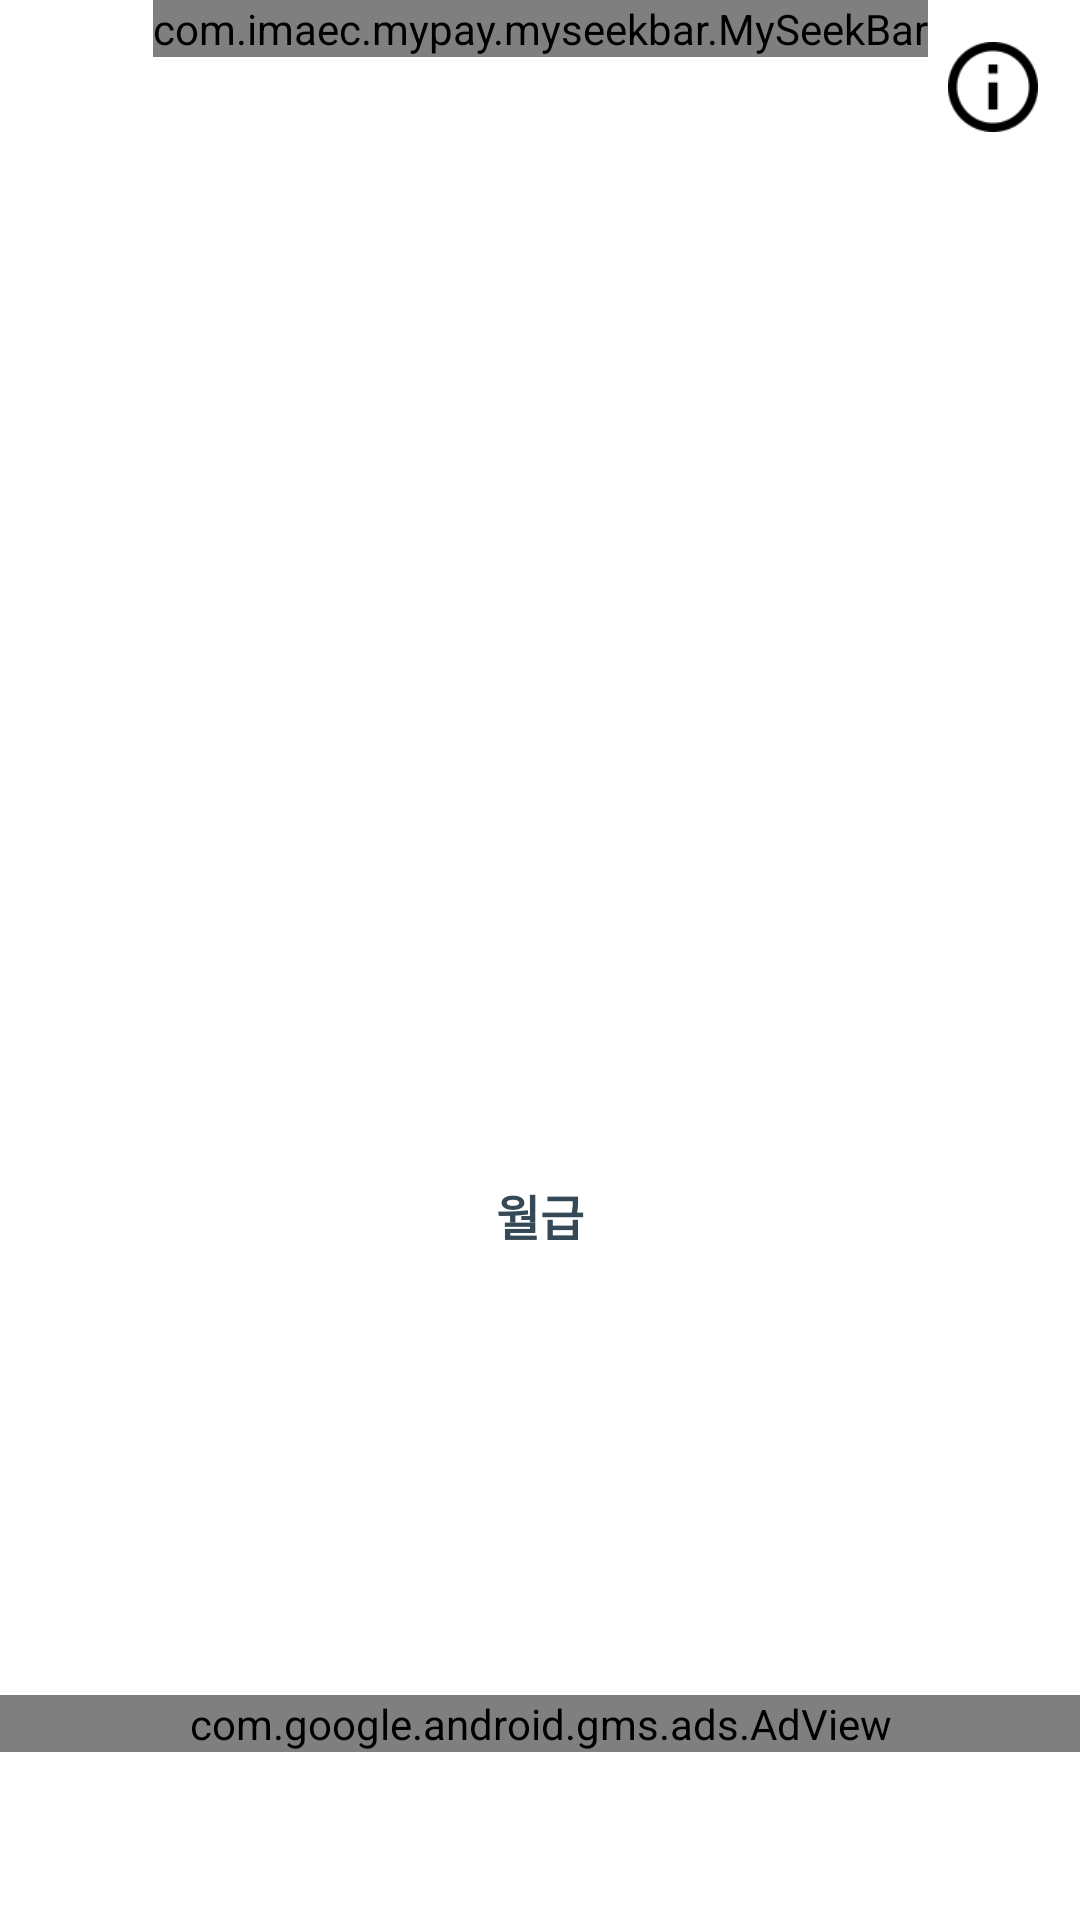

Icon click points for this 1080×1920 phone screenshot, format (x,y):
info: (993,87)
